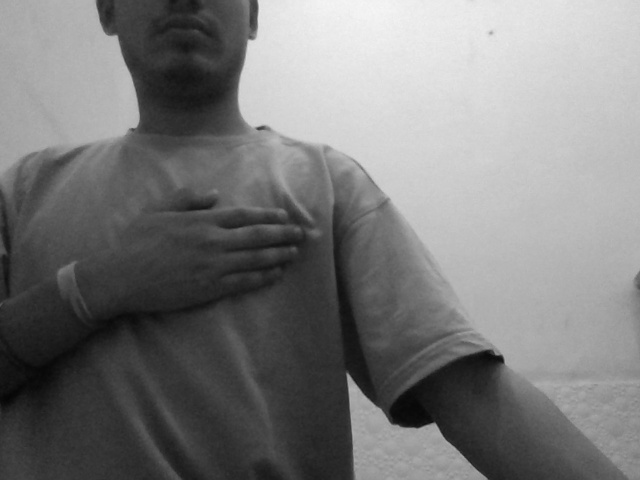Sorry: (81, 179, 310, 339)
